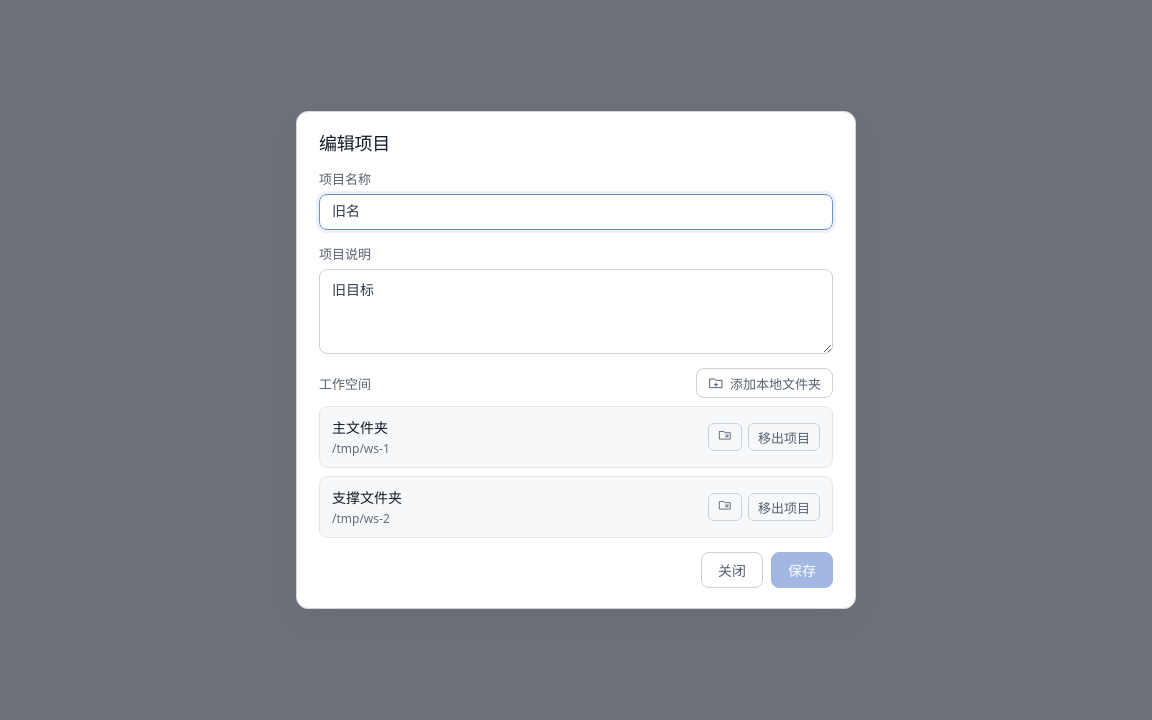
Scenario: 项目编辑 › 未改动时保存不可用，改动后才可用
This screenshot has width=1152, height=720.
Check: the button "保存" is disabled, box [771,552,833,588]
Replace the text in the field labelled "项目名称" with "新名" at (576, 212), box [319,194,833,230]
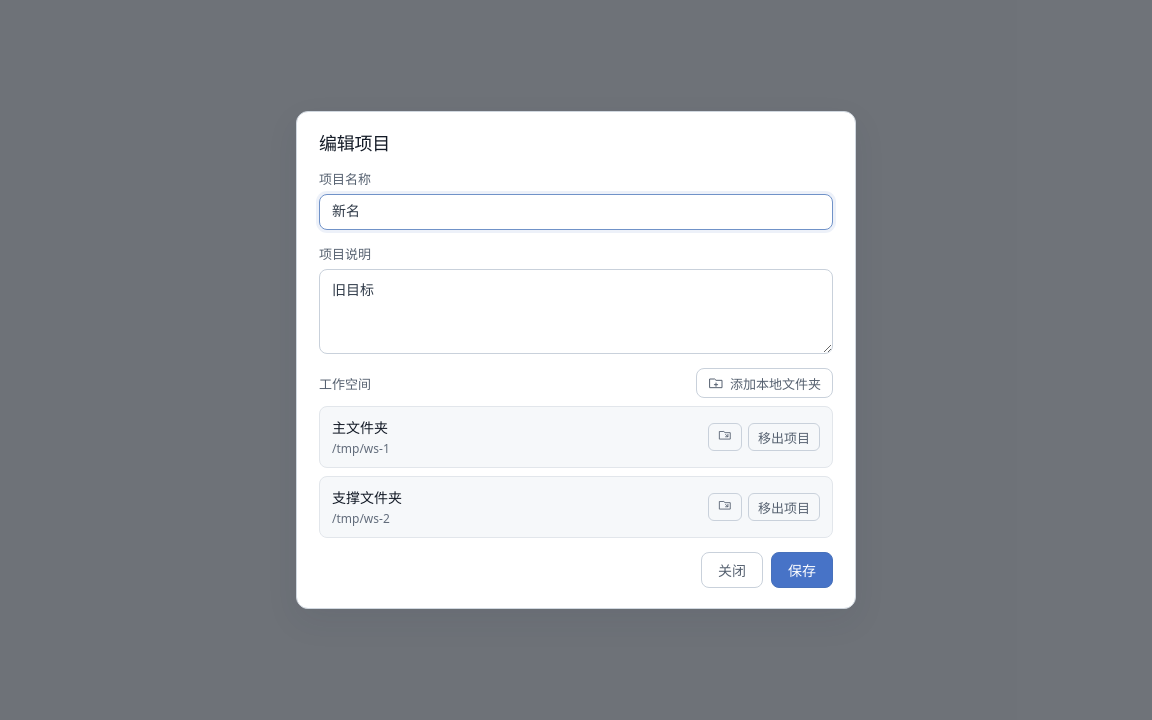
Check: the button "保存" is enabled, box [771,552,833,588]
